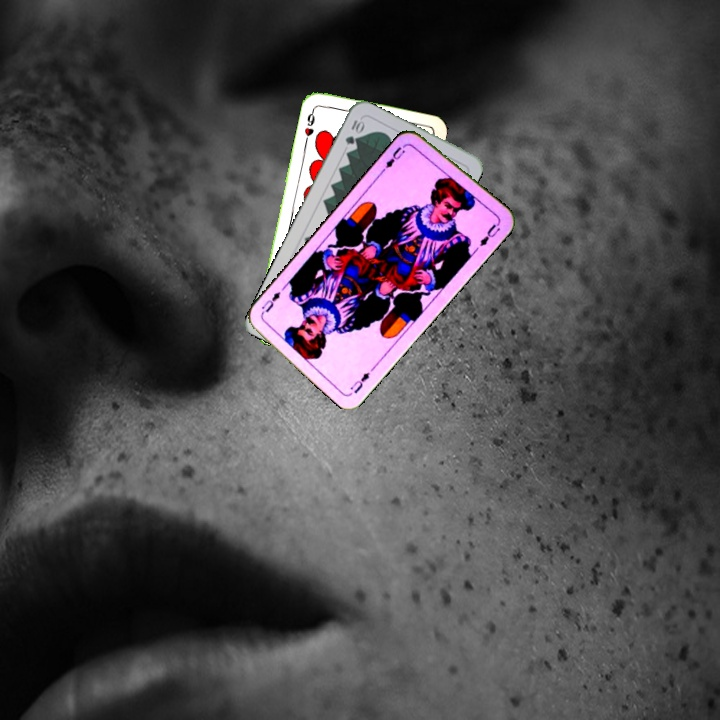EU: (379, 140, 411, 173), (346, 368, 372, 396)
G10: (341, 115, 367, 148)
H9: (300, 104, 318, 144)
